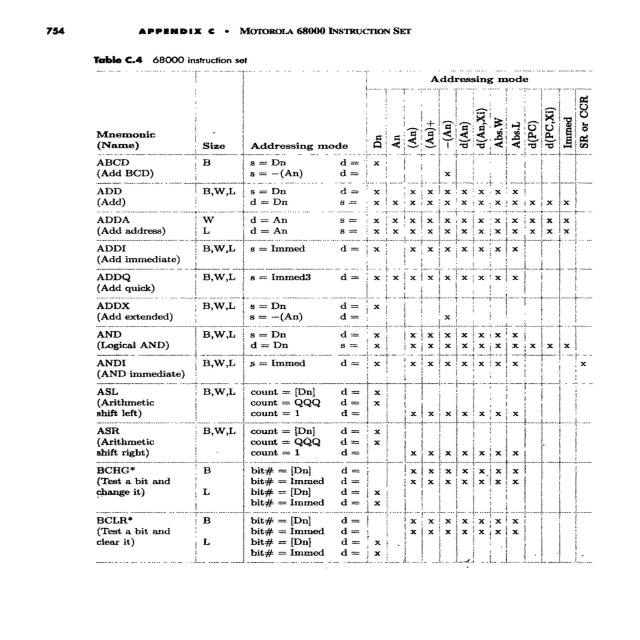diagram: (66, 40, 640, 591)
